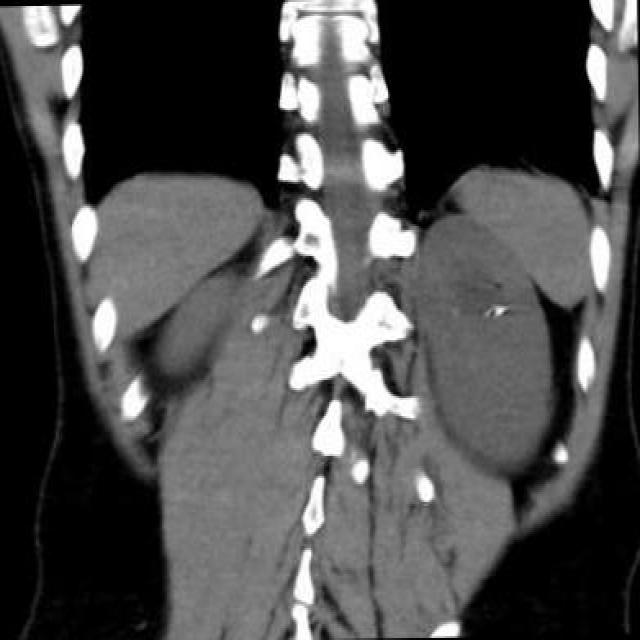Tas_Var: (247, 309, 270, 341), (490, 302, 510, 320)
